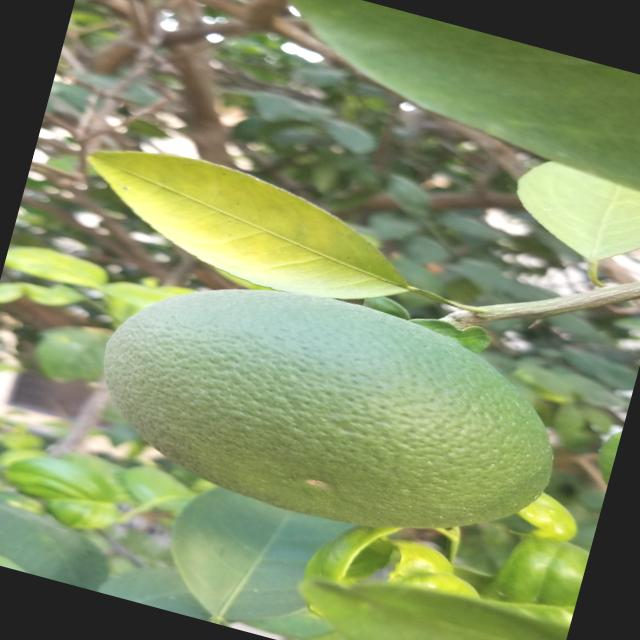Unripe: (68, 235, 590, 578)
